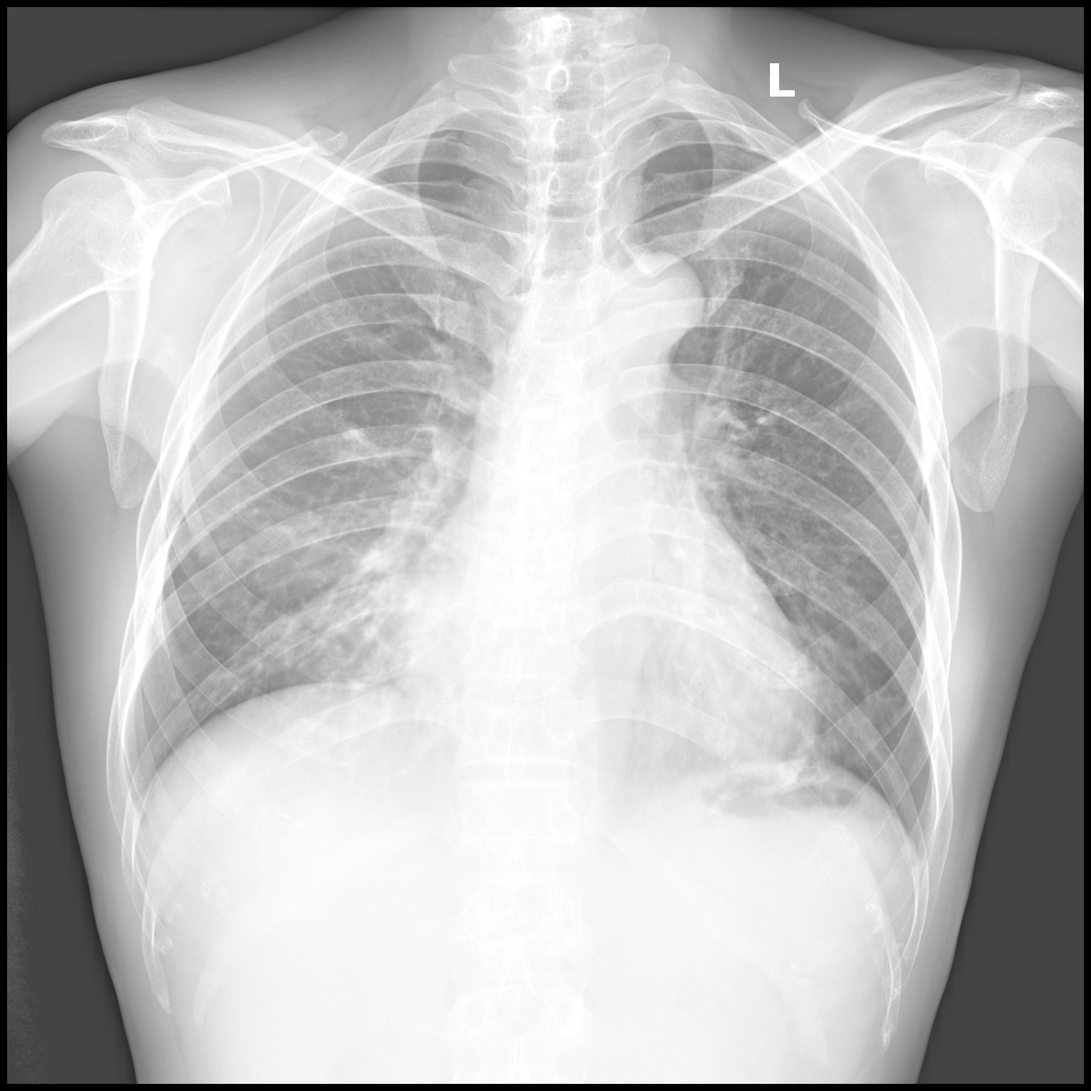Aortic enlargement: (595, 254, 714, 361)
Cardiomegaly: (371, 600, 812, 803)
